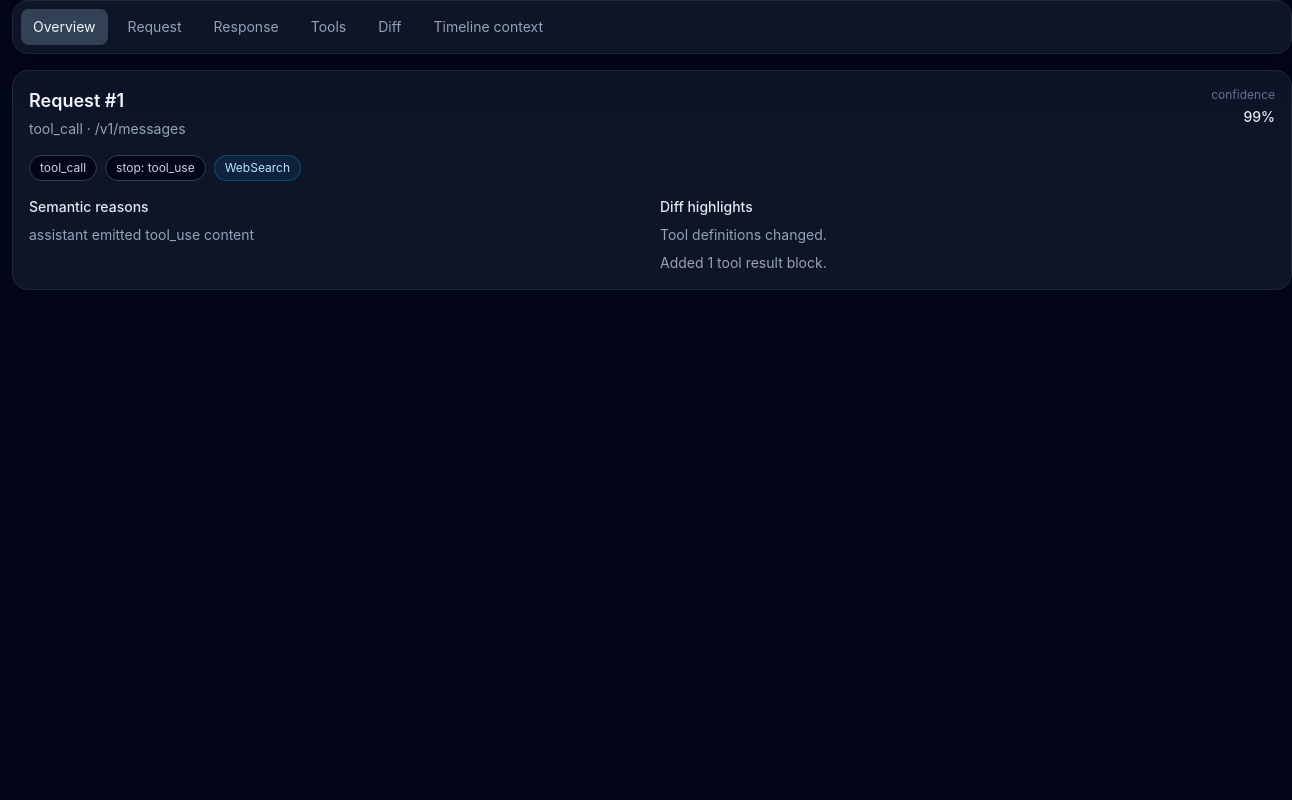
Test: DetailTabs › switches tab panels and only shows tools and timeline content after selecting those tabs
Expected: the heading "Request #1" is shown, [29, 90, 124, 111]
Expected: the list item "assistant emitted tool_use content" is shown, [29, 226, 254, 243]
Click the button "Tools". click: (328, 27)
box: [299, 9, 358, 45]
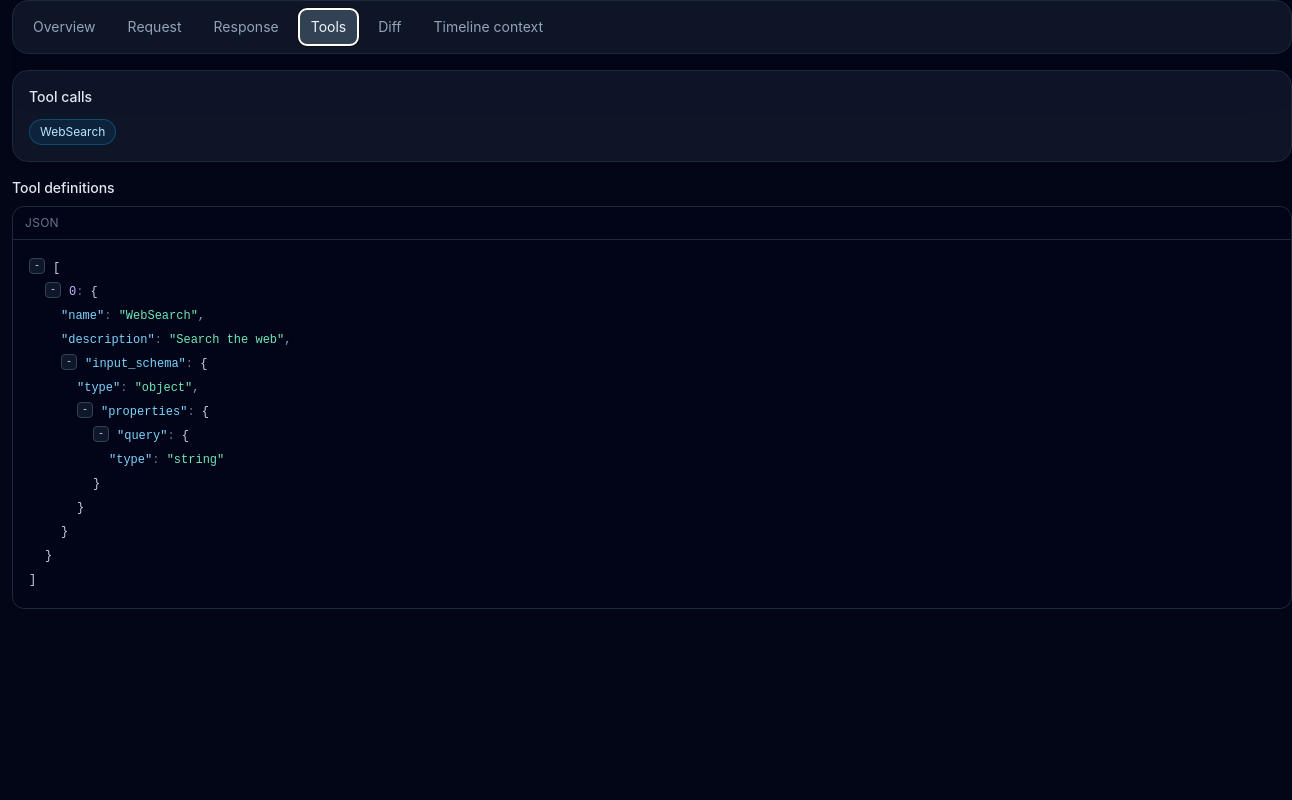
Expected: the heading "Request #1" is gone
Expected: the heading "Tool calls" is shown, [29, 88, 92, 105]
Expected: the heading "Tool definitions" is shown, [12, 179, 115, 196]
Click the button "Diff". click: (390, 27)
box: [366, 9, 414, 45]
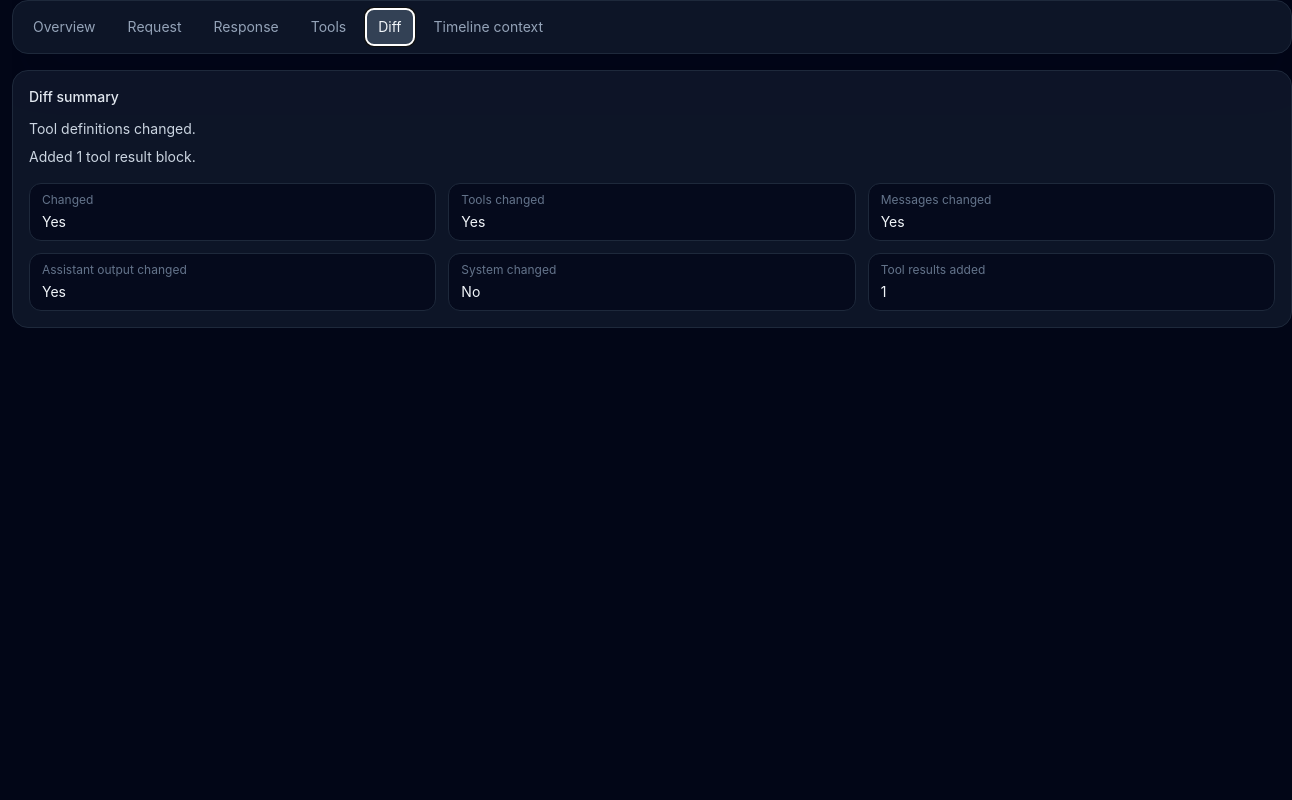
Expected: the text "Turn context" is not shown
Expected: the heading "Diff summary" is shown, [29, 88, 119, 105]
Expected: the list item "Tool definitions changed." is shown, [29, 120, 196, 137]
Click the button "Timeline context". click: (488, 27)
box: [422, 9, 555, 45]
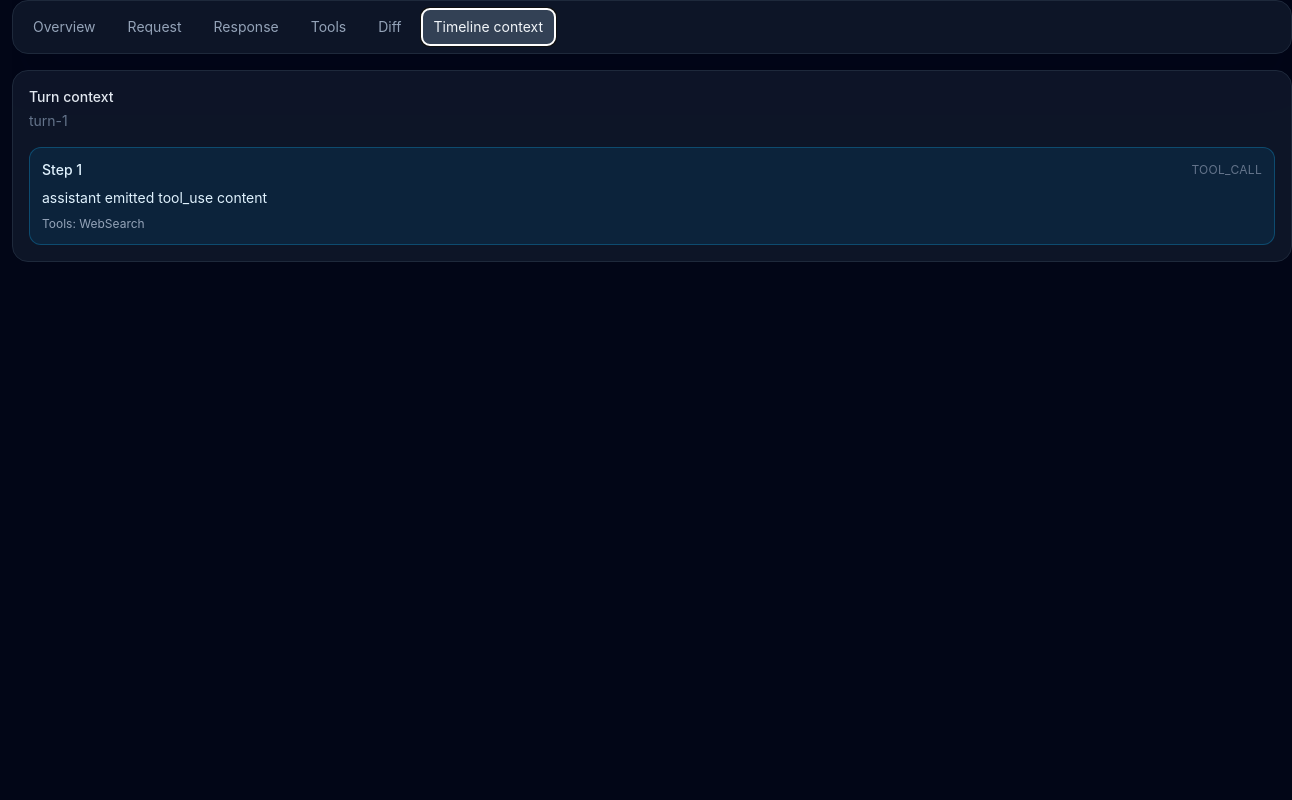
Expected: the heading "Turn context" is shown, [29, 88, 114, 105]
Expected: the text "assistant emitted tool_use content" is shown, [42, 189, 267, 206]
Expected: the list item "Tool definitions" is gone
Click the button "Overview". click: (64, 27)
box: [21, 9, 108, 45]
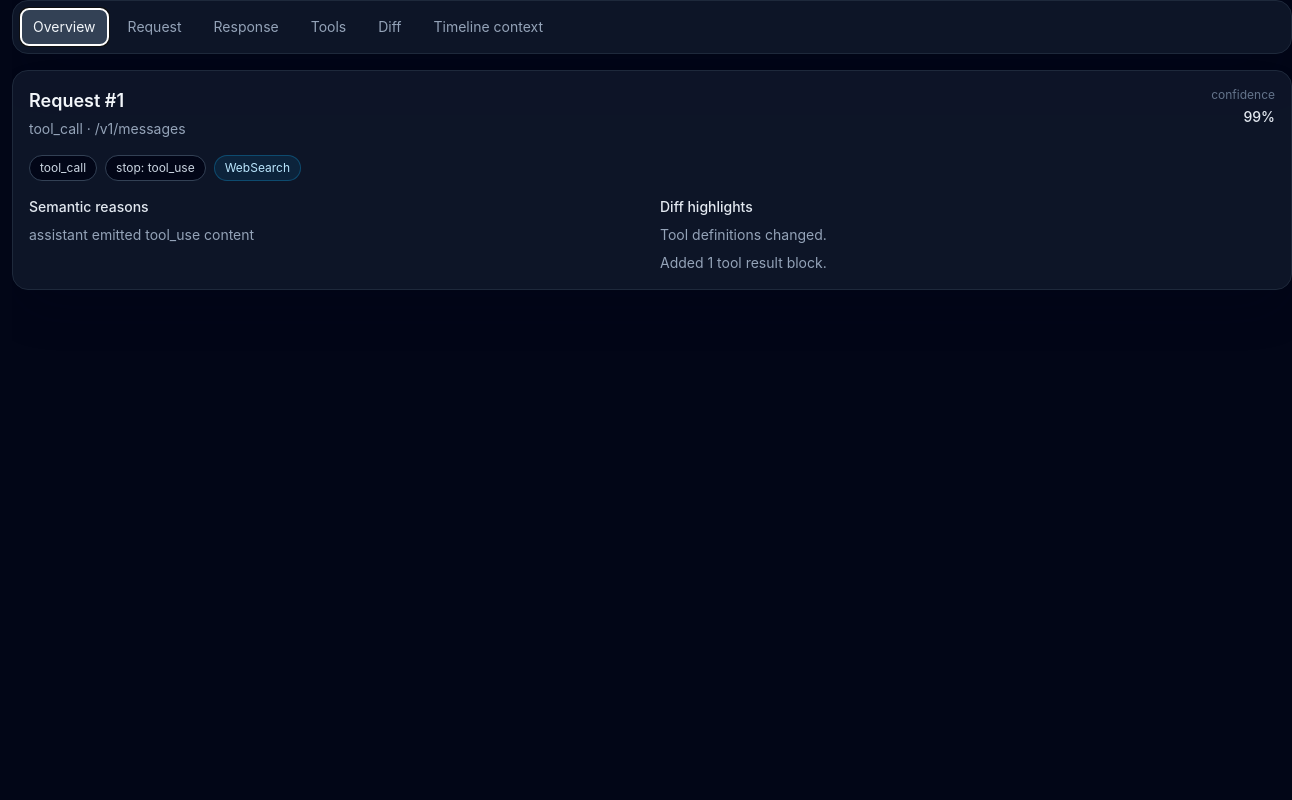
Expected: the heading "Request #1" is shown, [29, 90, 124, 111]
Expected: the list item "Tool definitions changed." is shown, [660, 226, 827, 243]
Expected: the heading "Turn context" is gone
